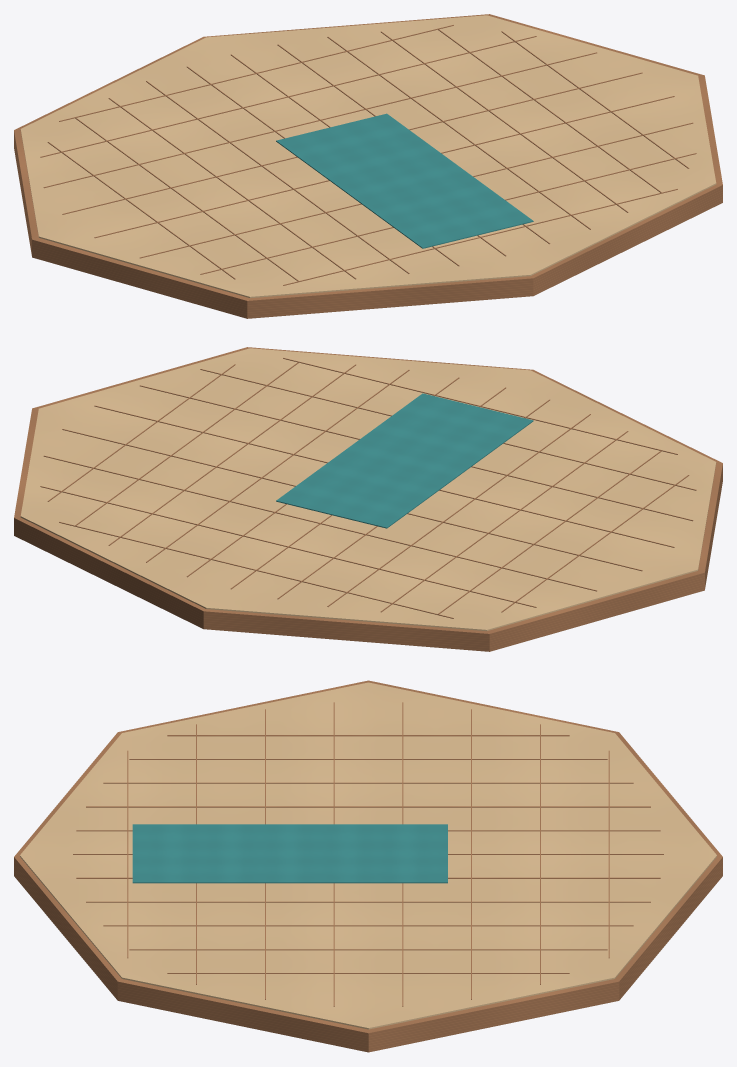
The model's file is atlas100-s094-a07.glb.
3 renders of one model, top to bottom at view 1: azimuth 30°, elevation 25°; view 2: azimuth 150°, elevation 25°; view 3: azimuth 270°, elevation 25°, orthographic. The views are drawn at different scales.
Parts seen in each view (by area): view 1: atlas100-s094-a07:part-001, atlas100-s094-a07:part-000, atlas100-s094-a07:part-021, atlas100-s094-a07:part-015, atlas100-s094-a07:part-014, atlas100-s094-a07:part-016, atlas100-s094-a07:part-017, atlas100-s094-a07:part-018, atlas100-s094-a07:part-013, atlas100-s094-a07:part-020, atlas100-s094-a07:part-019, atlas100-s094-a07:part-005 (+3 smaller); view 2: atlas100-s094-a07:part-001, atlas100-s094-a07:part-000, atlas100-s094-a07:part-021, atlas100-s094-a07:part-015, atlas100-s094-a07:part-014, atlas100-s094-a07:part-017, atlas100-s094-a07:part-016, atlas100-s094-a07:part-018, atlas100-s094-a07:part-020, atlas100-s094-a07:part-013, atlas100-s094-a07:part-019, atlas100-s094-a07:part-005 (+3 smaller); view 3: atlas100-s094-a07:part-001, atlas100-s094-a07:part-000, atlas100-s094-a07:part-021, atlas100-s094-a07:part-005, atlas100-s094-a07:part-009, atlas100-s094-a07:part-004, atlas100-s094-a07:part-010, atlas100-s094-a07:part-011, atlas100-s094-a07:part-002.
Part boxes in pixels (<box>): atlas100-s094-a07:part-001: <box>20,15,716,298</box>; atlas100-s094-a07:part-000: <box>14,14,722,318</box>; atlas100-s094-a07:part-021: <box>276,113,533,248</box>; atlas100-s094-a07:part-015: <box>43,52,596,188</box>; atlas100-s094-a07:part-014: <box>40,36,536,157</box>; atlas100-s094-a07:part-016: <box>62,72,642,214</box>; atlas100-s094-a07:part-017: <box>94,96,674,238</box>; atlas100-s094-a07:part-018: <box>140,122,693,258</box>; atlas100-s094-a07:part-013: <box>59,25,453,121</box>; atlas100-s094-a07:part-020: <box>283,189,677,285</box>; atlas100-s094-a07:part-019: <box>200,153,696,274</box>; atlas100-s094-a07:part-005: <box>146,81,409,273</box>; atlas100-s094-a07:part-001: <box>20,348,716,631</box>; atlas100-s094-a07:part-000: <box>14,347,722,651</box>; atlas100-s094-a07:part-021: <box>276,393,533,528</box>; atlas100-s094-a07:part-015: <box>43,455,596,591</box>; atlas100-s094-a07:part-014: <box>40,486,536,607</box>; atlas100-s094-a07:part-017: <box>94,405,674,547</box>; atlas100-s094-a07:part-016: <box>62,429,642,571</box>; atlas100-s094-a07:part-018: <box>140,385,693,521</box>; atlas100-s094-a07:part-020: <box>283,358,677,454</box>; atlas100-s094-a07:part-013: <box>59,522,453,618</box>; atlas100-s094-a07:part-019: <box>200,369,696,490</box>; atlas100-s094-a07:part-005: <box>327,414,590,606</box>; atlas100-s094-a07:part-001: <box>20,682,716,1029</box>; atlas100-s094-a07:part-000: <box>14,680,722,1052</box>; atlas100-s094-a07:part-021: <box>132,824,447,883</box>; atlas100-s094-a07:part-005: <box>86,806,650,807</box>; atlas100-s094-a07:part-009: <box>86,901,650,902</box>; atlas100-s094-a07:part-004: <box>103,782,633,783</box>; atlas100-s094-a07:part-010: <box>103,925,633,926</box>; atlas100-s094-a07:part-011: <box>129,949,607,950</box>; atlas100-s094-a07:part-002: <box>167,735,569,736</box>.
Size of the model in its own units: 13.35 by 0.404 by 11.34.
3 materials, 3 textured.
